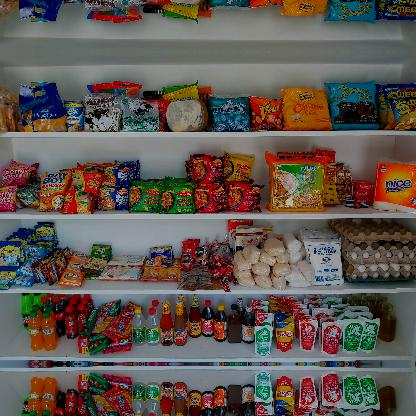Lady-s-Choice: (166, 99, 208, 132)
